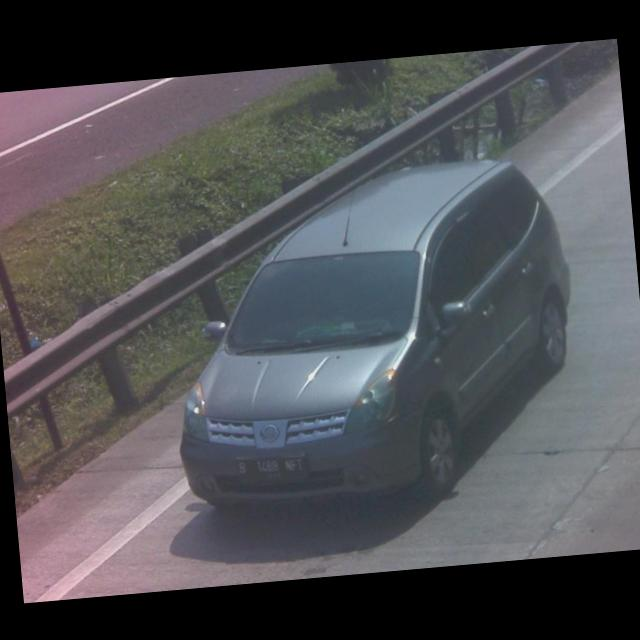plate: (230, 448, 309, 484)
